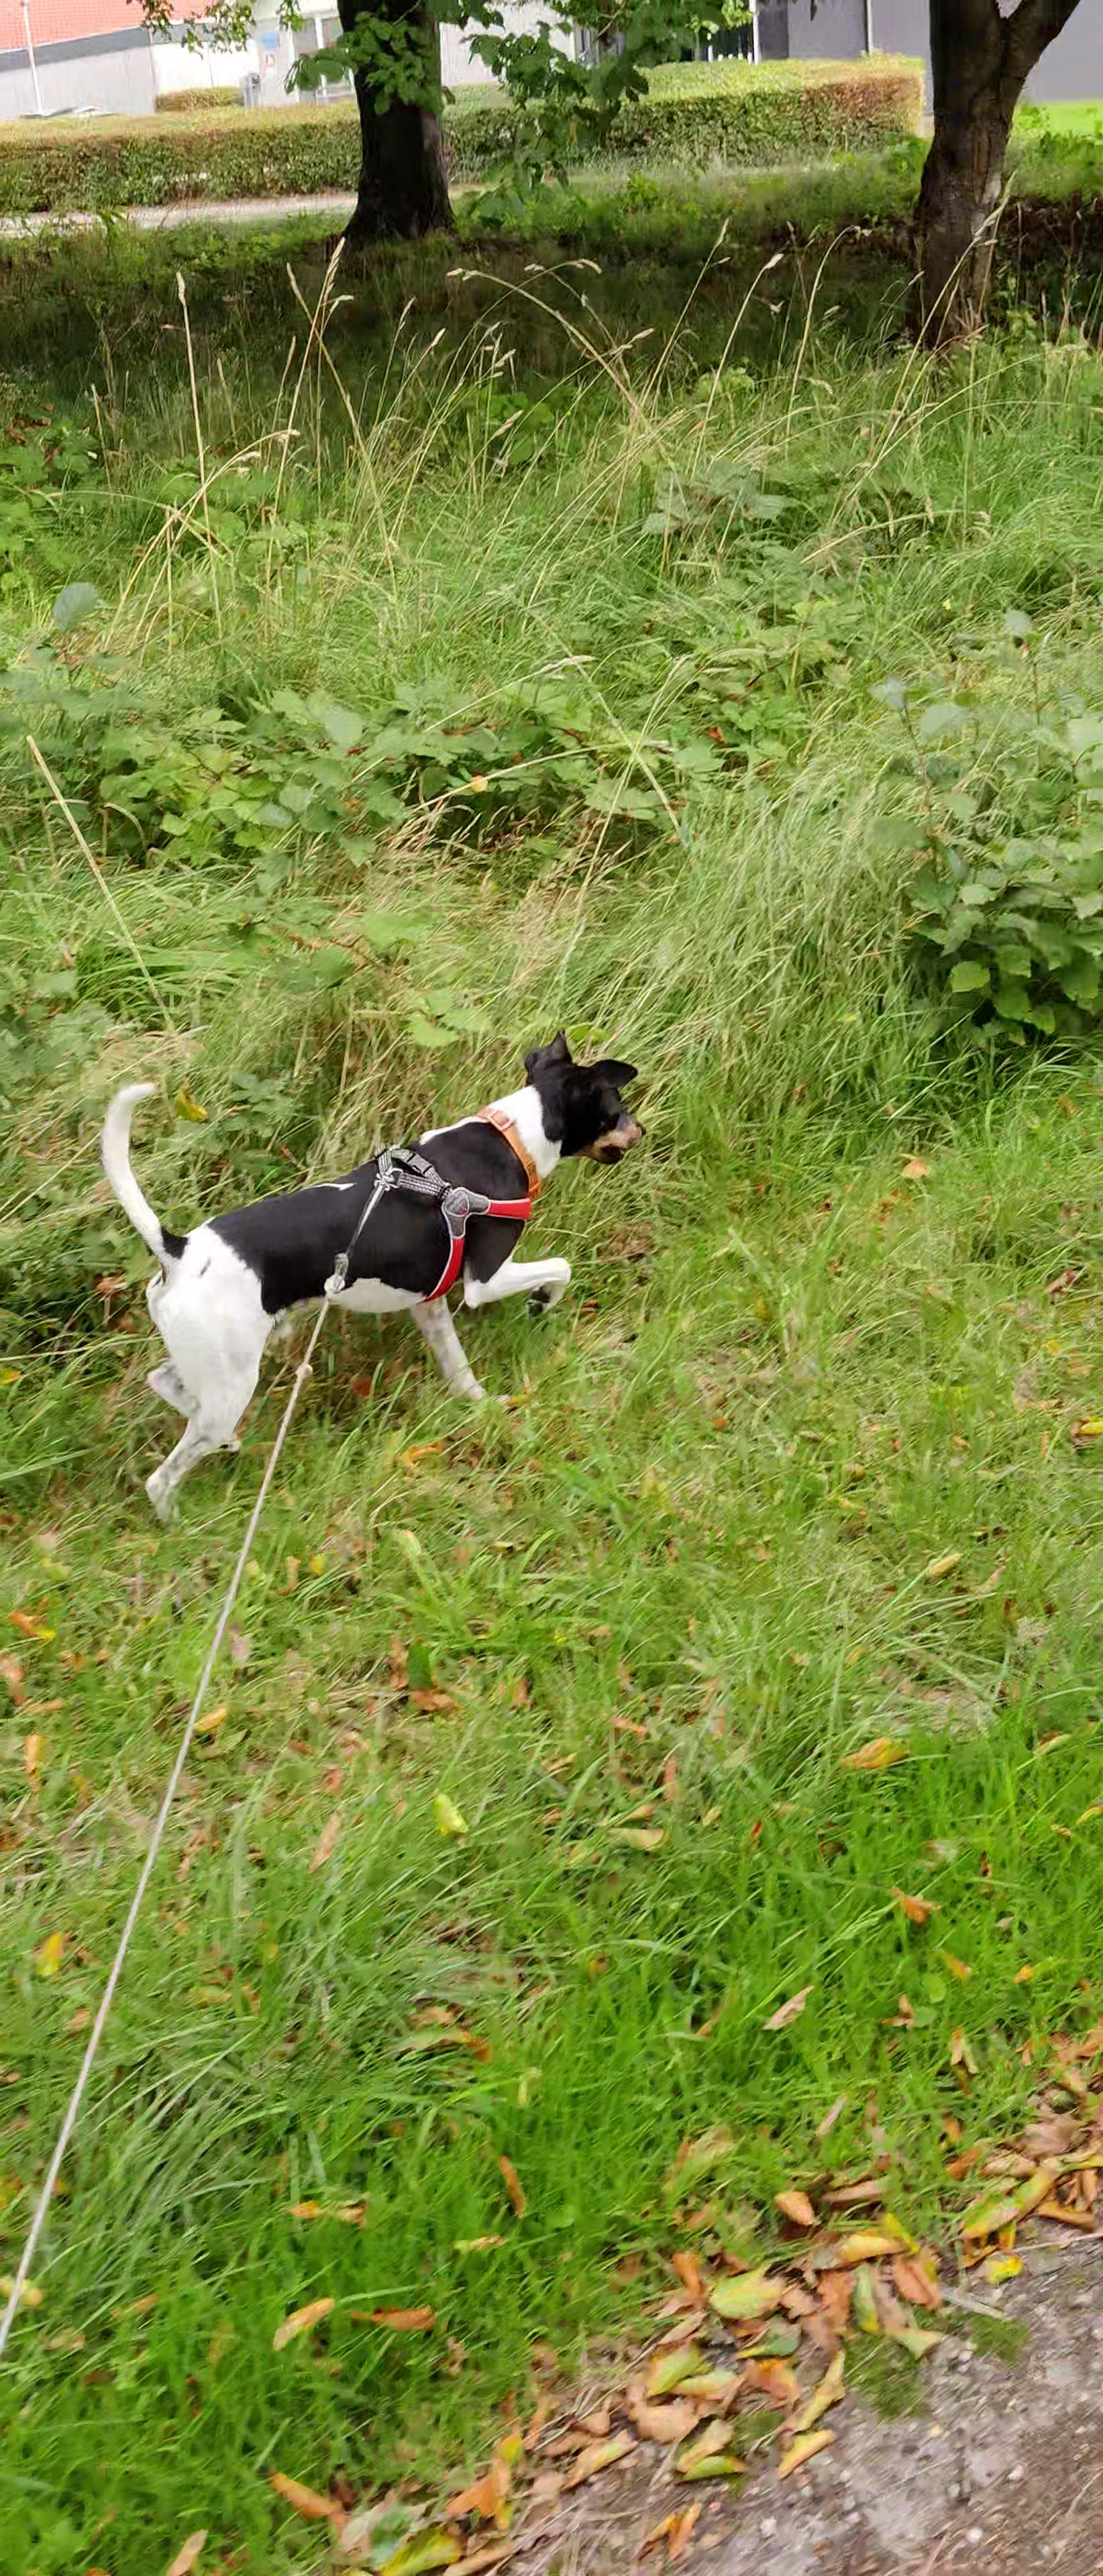Dog: (92, 1023, 651, 1529)
